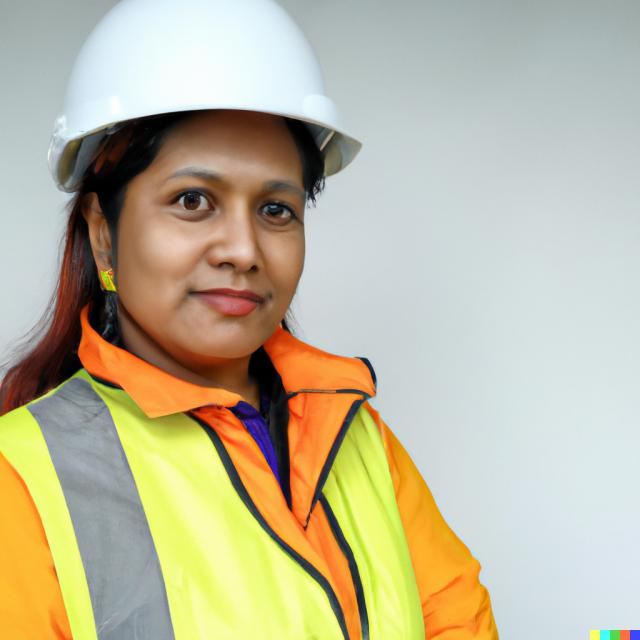Reflective-Jacket: (0, 334, 439, 639)
Safety-Helmet: (48, 4, 370, 169)
